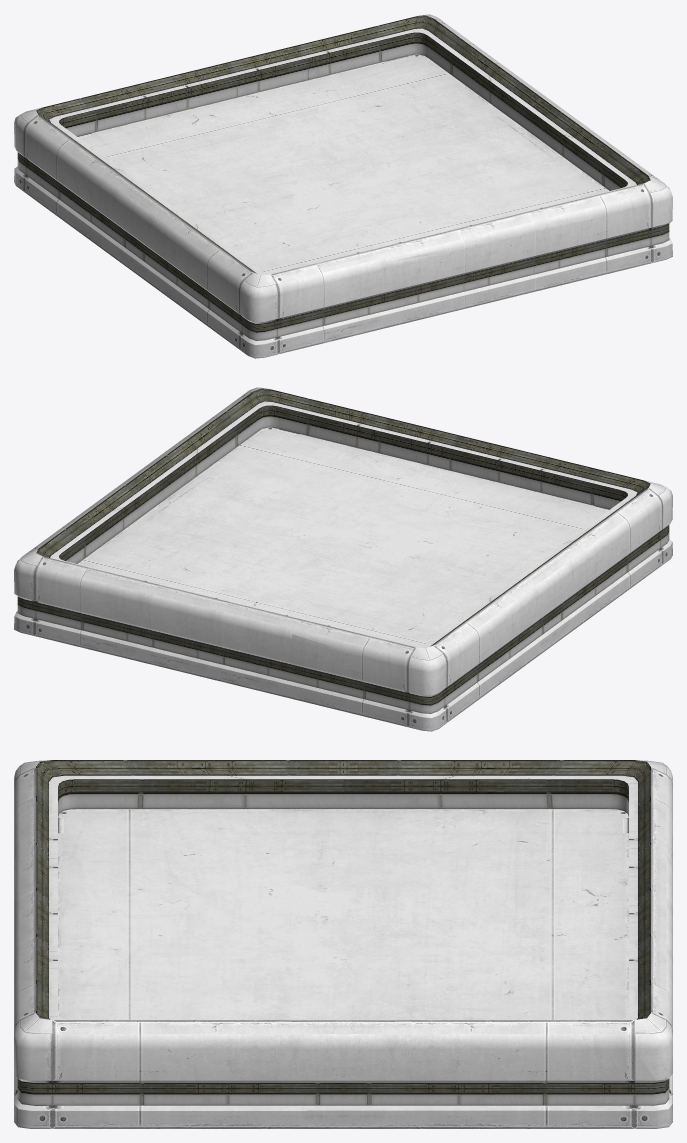
The model's file is Emb_PlanterBalc_6X6.FBX.
The picture shows the model from 3 angles, top to bottom: view 1: azimuth 30°, elevation 25°; view 2: azimuth 150°, elevation 25°; view 3: azimuth 270°, elevation 25°; orthographic projection. The views are drawn at different scales.
Parts seen in each view (by area): view 1: Emb_PlanterBalc_6X6; view 2: Emb_PlanterBalc_6X6; view 3: Emb_PlanterBalc_6X6.
Boxes of the visible parts, x1,y1,x2,y2 form: Emb_PlanterBalc_6X6: [14, 14, 672, 358]; Emb_PlanterBalc_6X6: [14, 387, 672, 731]; Emb_PlanterBalc_6X6: [14, 760, 672, 1128].
Size of the model in its own units: 6 by 1 by 6.
